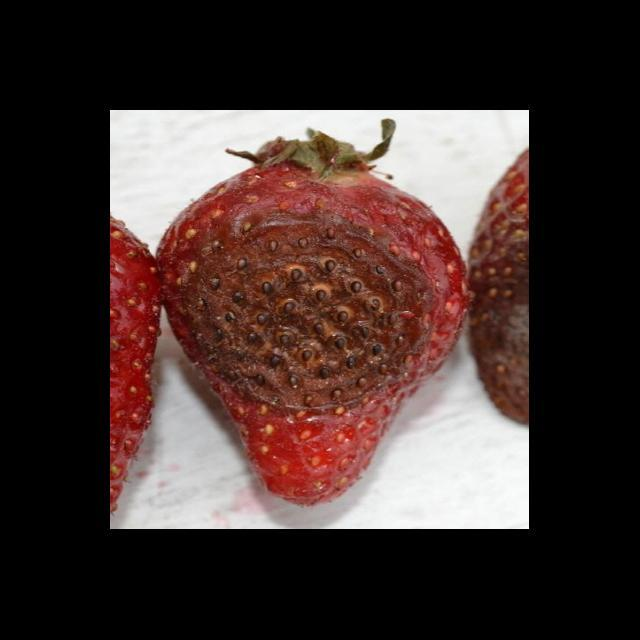Anthracnose Fruit Rot: (177, 208, 441, 415)
